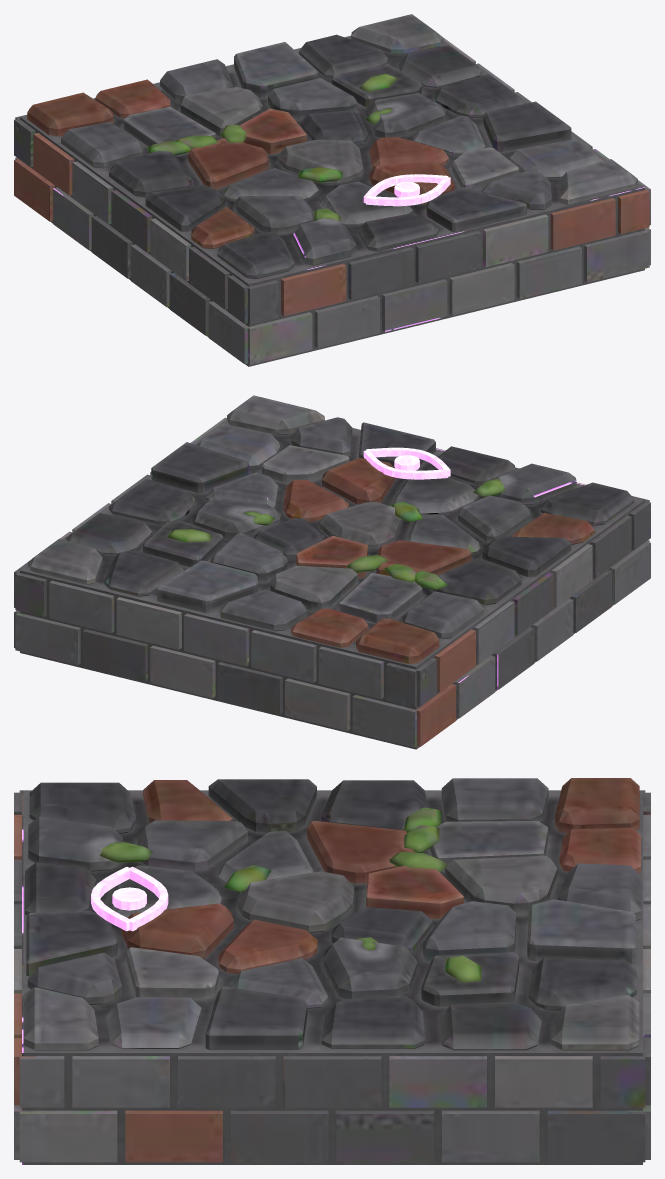
Rendered from plate_1_curse.glb.
The picture shows the model from 3 angles, top to bottom: view 1: azimuth 30°, elevation 25°; view 2: azimuth 150°, elevation 25°; view 3: azimuth 270°, elevation 25°; orthographic projection. The views are drawn at different scales.
Visible parts, largest first — view 1: plate_1_curse; view 2: plate_1_curse; view 3: plate_1_curse.
Part boxes in pixels (bbox=[...]): plate_1_curse: bbox=[14, 14, 650, 366]; plate_1_curse: bbox=[14, 395, 650, 749]; plate_1_curse: bbox=[14, 778, 650, 1164].
Size of the model in its own units: 2.01 by 0.484 by 2.01.
Materials: 1 (1 with a texture image).
